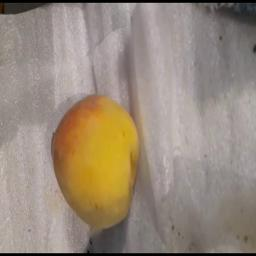Peach Semifresh: (39, 89, 153, 238)
